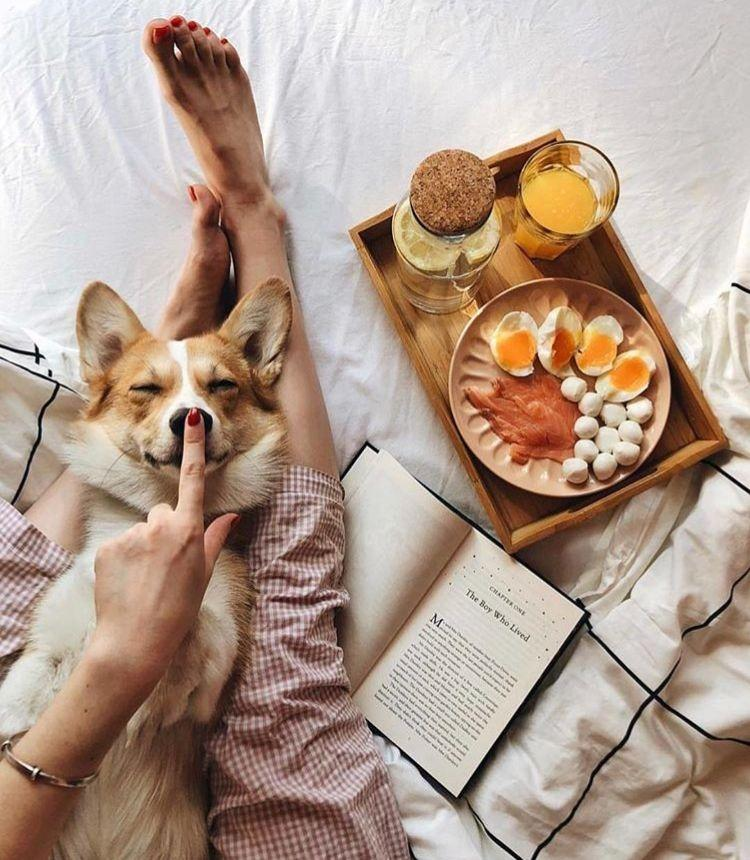adult_dog: (1, 280, 300, 860)
